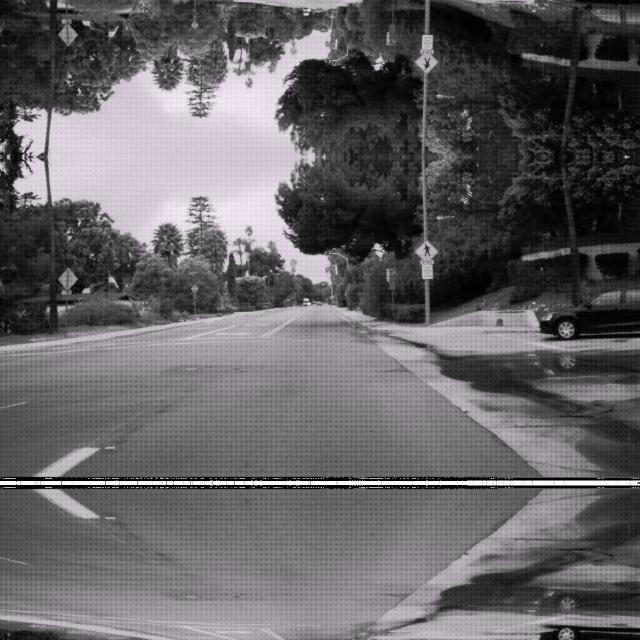pedestrianCrossing: (414, 238, 438, 262), (414, 51, 438, 74)
